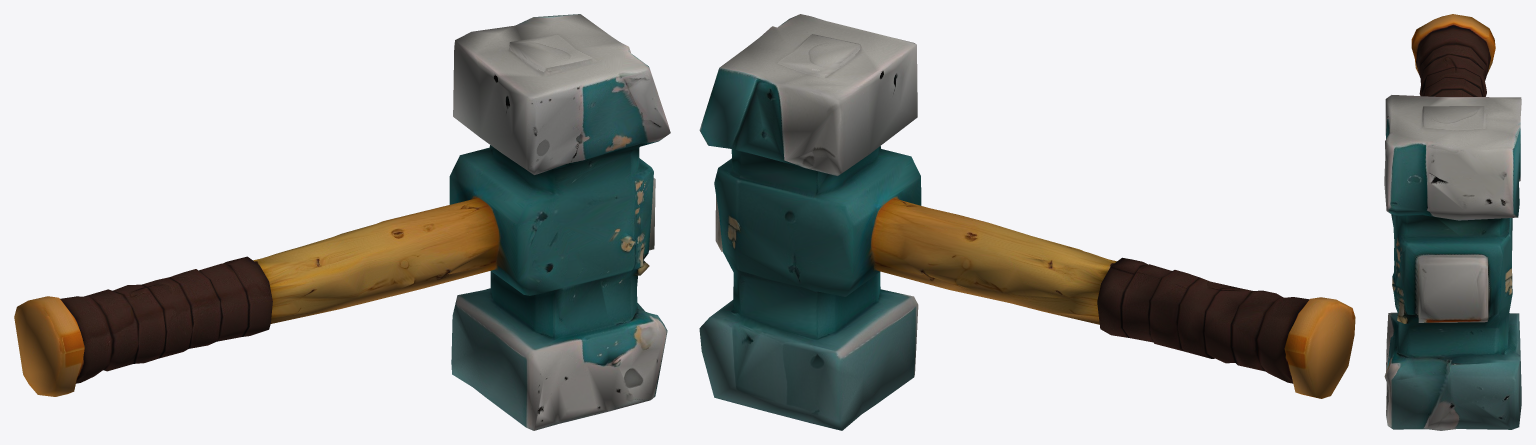
Rendered from weapon_hammer_1500.glb.
3 views of the same model, side by side, from view 1: azimuth 30°, elevation 25°; view 2: azimuth 150°, elevation 25°; view 3: azimuth 270°, elevation 25° (orthographic). The views are drawn at different scales.
Parts seen in each view (by area): view 1: tripo_node_b7b21708-0b61-4bfb-8879-78c5d5238310; view 2: tripo_node_b7b21708-0b61-4bfb-8879-78c5d5238310; view 3: tripo_node_b7b21708-0b61-4bfb-8879-78c5d5238310.
Part boxes in pixels (x1,y1,x2,y2): tripo_node_b7b21708-0b61-4bfb-8879-78c5d5238310: (14, 14, 670, 430); tripo_node_b7b21708-0b61-4bfb-8879-78c5d5238310: (699, 14, 1355, 430); tripo_node_b7b21708-0b61-4bfb-8879-78c5d5238310: (1384, 14, 1521, 430).
Size of the model in its own units: 0.9781 by 0.5363 by 0.2297.
1 material, 1 textured.
